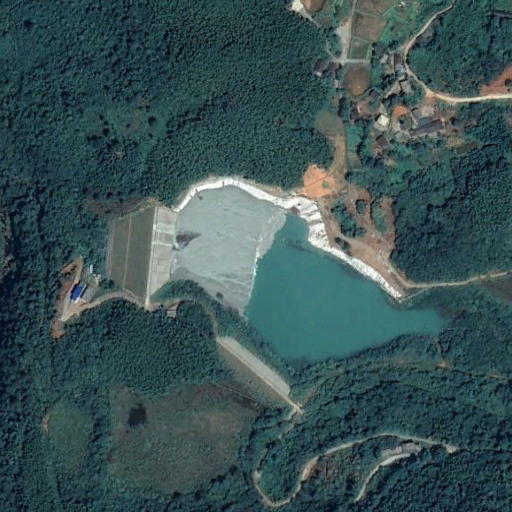tp: (103, 183, 446, 365)
